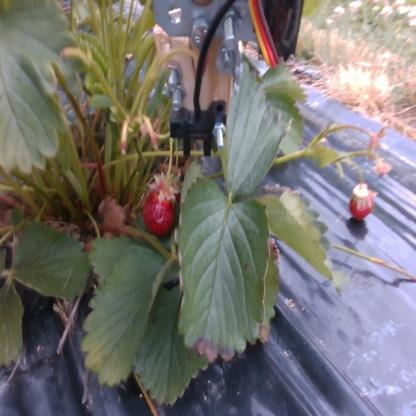ripe: (143, 184, 173, 234), (349, 191, 373, 222)
